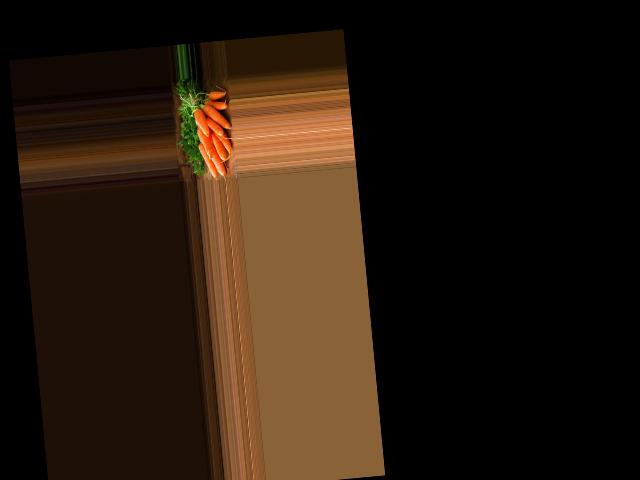carrot: (199, 99, 231, 131)
